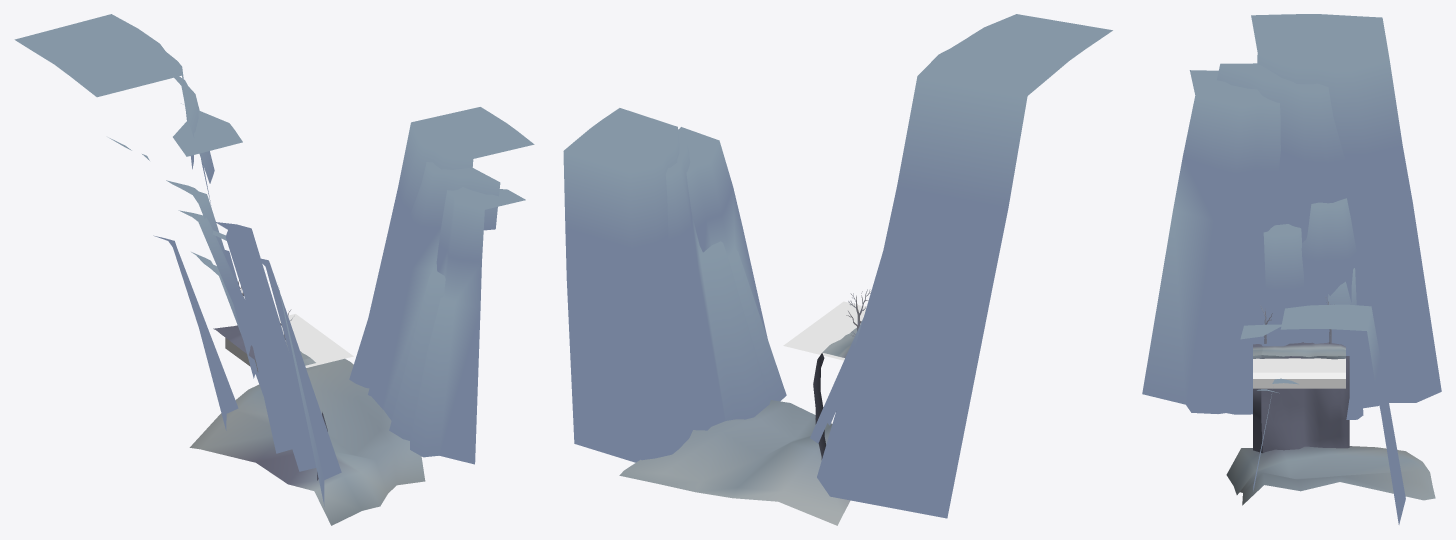
The model's file is Arctic_Narrows_Right_Straight_Short_A.glb.
The picture shows the model from 3 angles, left to right: view 1: azimuth 30°, elevation 25°; view 2: azimuth 150°, elevation 25°; view 3: azimuth 270°, elevation 25°; orthographic projection. The views are drawn at different scales.
Visible parts, largest first — view 1: Arctic_Narrows_Right_Straight_Short_A, inv_fill; view 2: Arctic_Narrows_Right_Straight_Short_A, inv_fill; view 3: Arctic_Narrows_Right_Straight_Short_A, inv_fill.
Part boxes in pixels (x1,y1,x2,y2): Arctic_Narrows_Right_Straight_Short_A: (14,14,534,525); inv_fill: (225,314,353,371); Arctic_Narrows_Right_Straight_Short_A: (563,14,1112,525); inv_fill: (783,301,866,360); Arctic_Narrows_Right_Straight_Short_A: (1142,14,1441,524); inv_fill: (1253,358,1345,388).
Size of what is drawn, in the model's own units: 22.58 by 22.33 by 16.13.
